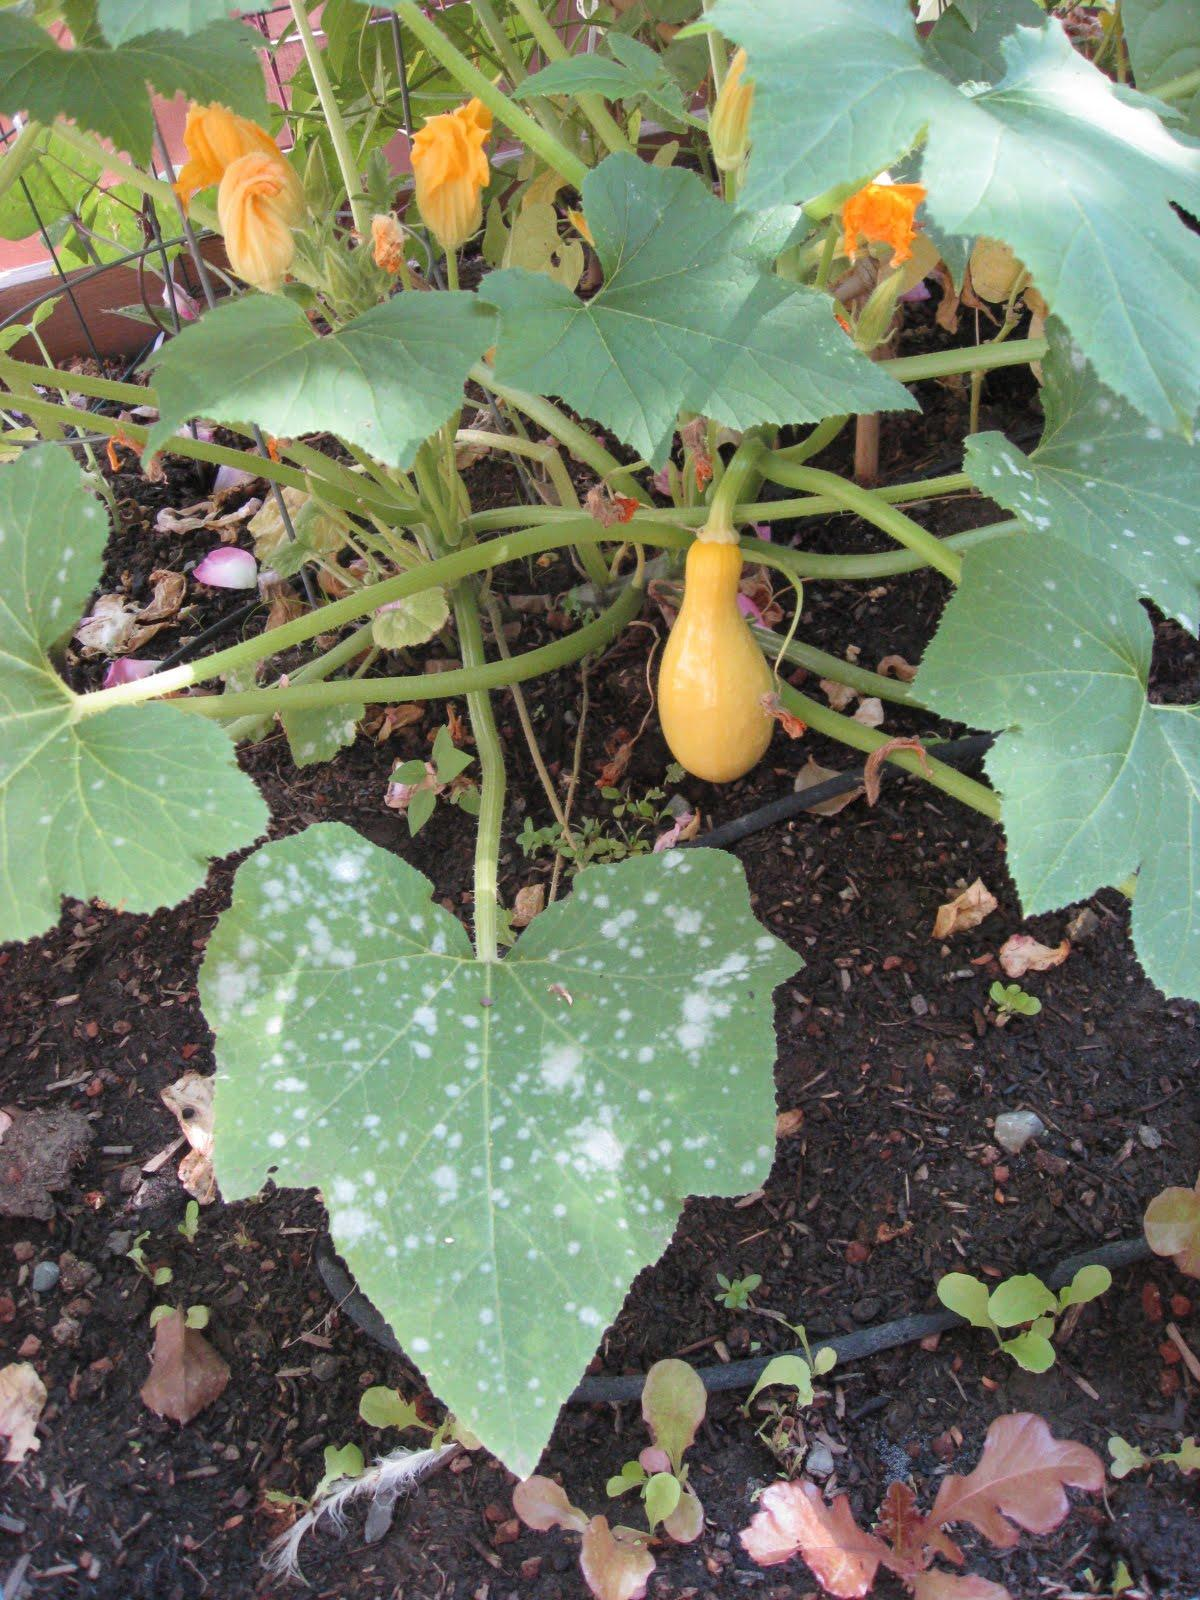Squash Powdery mildew leaf: (193, 810, 793, 1473), (1, 432, 263, 896), (937, 539, 1200, 969), (948, 420, 1200, 641)
